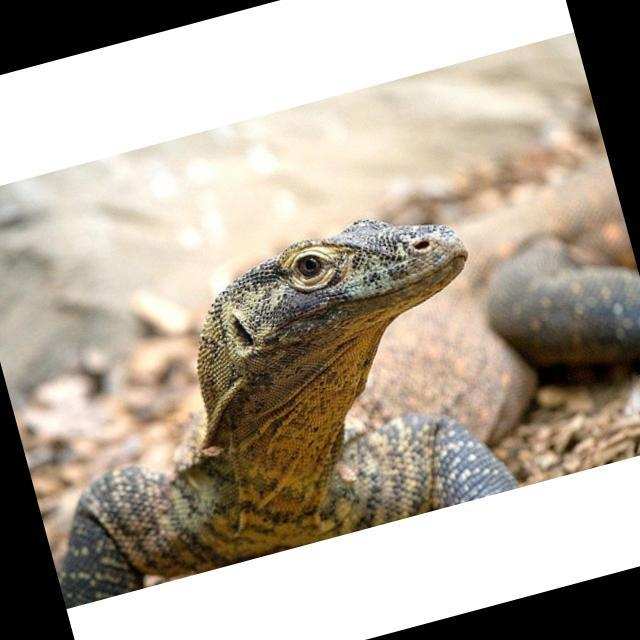KomodoDragon: (0, 154, 640, 605)
